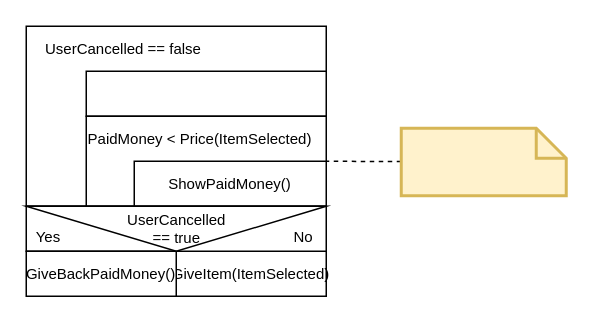
Image size: 594x323. Some labels were removed from this diagram. The centre of each missing label's shape, as x and y in pixels:
"ShowPrice(ItemSelected)" belongs at (205,93).
"Wait till item is fully paid" belongs at (483,161).
